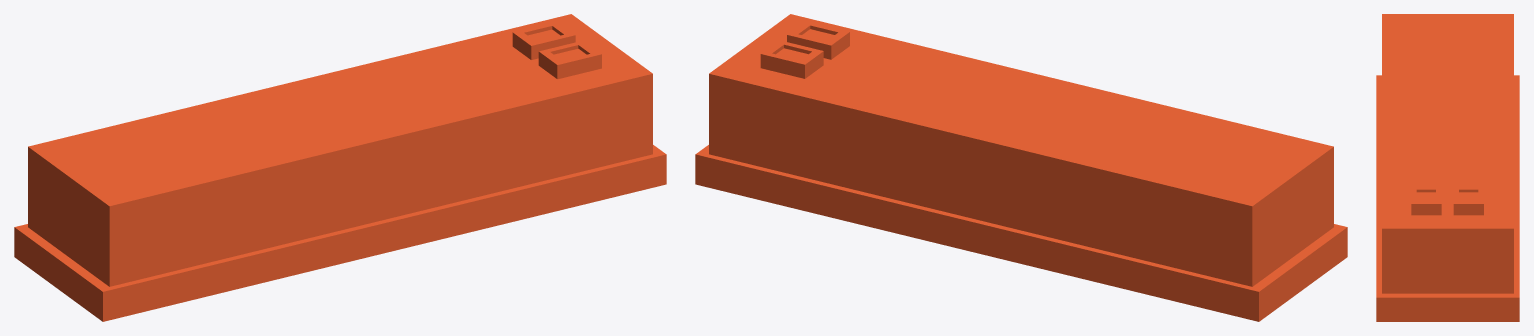
The model's file is Wall_Low.fbx.
3 views of the same model, side by side, from view 1: azimuth 30°, elevation 25°; view 2: azimuth 150°, elevation 25°; view 3: azimuth 270°, elevation 25° (orthographic). The views are drawn at different scales.
Parts seen in each view (by area): view 1: Wall_Low; view 2: Wall_Low; view 3: Wall_Low.
Boxes of the visible parts, box(x1,y1,x2,y2) form: Wall_Low: box(14, 14, 666, 321); Wall_Low: box(695, 14, 1347, 321); Wall_Low: box(1376, 14, 1519, 321).
Size of the model in its own units: 539 by 114 by 147.
